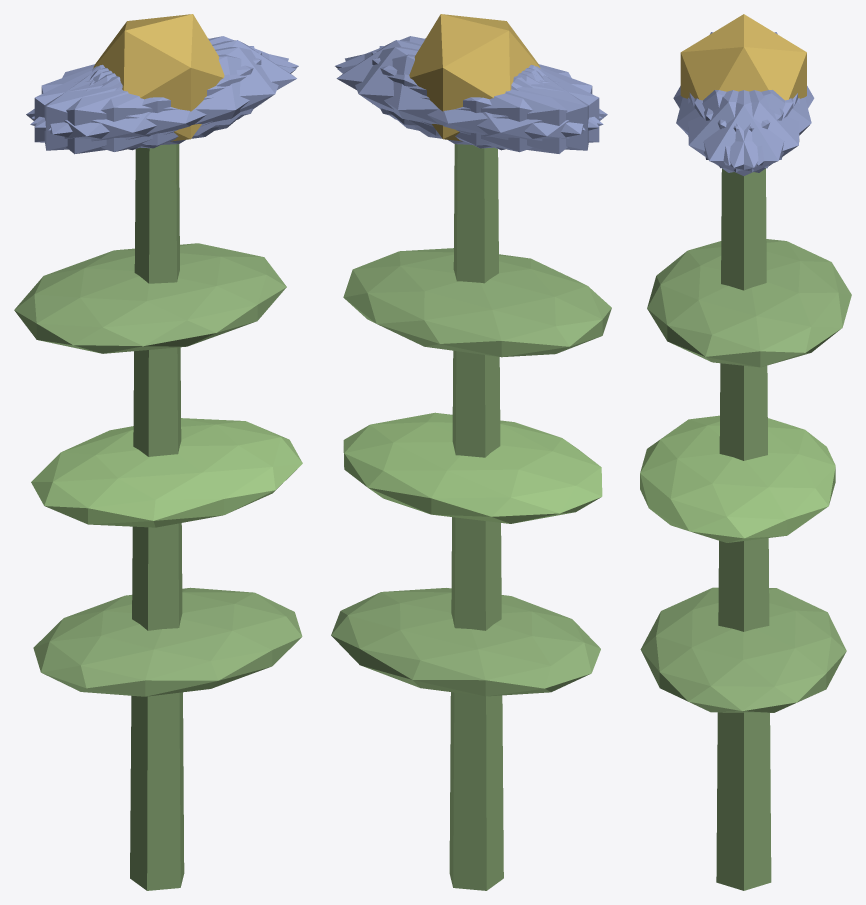
Rendered from amaranthus-blitum.glb.
3 views of the same model, side by side, from view 1: azimuth 30°, elevation 25°; view 2: azimuth 150°, elevation 25°; view 3: azimuth 270°, elevation 25° (orthographic).
Parts seen in each view (by area): view 1: stem, leaf2, leaf1, leaf0, center, petal1, petal6, petal2, petal5, petal7, petal0, petal4 (+2 smaller); view 2: stem, leaf2, leaf0, leaf1, center, petal8, petal3, petal7, petal4, petal2, petal0, petal5 (+2 smaller); view 3: stem, leaf2, leaf0, leaf1, center, petal0, petal4, petal5, petal1, petal8.
Boxes of the visible parts, left/top/right/bottom form: stem: left=130, top=144, right=184, bottom=890; leaf2: left=14, top=243, right=286, bottom=353; leaf1: left=31, top=418, right=302, bottom=527; leaf0: left=33, top=587, right=302, bottom=696; center: left=93, top=14, right=224, bottom=141; petal1: left=30, top=54, right=296, bottom=151; petal6: left=26, top=66, right=218, bottom=154; petal2: left=44, top=46, right=254, bottom=150; petal5: left=48, top=47, right=288, bottom=145; petal7: left=34, top=51, right=261, bottom=148; petal0: left=93, top=40, right=296, bottom=135; petal4: left=31, top=36, right=298, bottom=127; stem: left=449, top=144, right=503, bottom=890; leaf2: left=343, top=248, right=611, bottom=357; leaf0: left=331, top=588, right=600, bottom=696; leaf1: left=343, top=412, right=602, bottom=523; center: left=409, top=14, right=540, bottom=141; petal8: left=337, top=54, right=603, bottom=152; petal3: left=415, top=66, right=607, bottom=153; petal7: left=379, top=46, right=588, bottom=150; petal4: left=345, top=47, right=585, bottom=145; petal2: left=371, top=51, right=599, bottom=148; petal0: left=336, top=40, right=540, bottom=135; petal5: left=335, top=36, right=602, bottom=127; stem: left=716, top=168, right=771, bottom=890; leaf2: left=647, top=239, right=851, bottom=367; leaf0: left=640, top=587, right=846, bottom=712; leaf1: left=640, top=415, right=835, bottom=542; center: left=680, top=14, right=806, bottom=100; petal0: left=689, top=90, right=797, bottom=175; petal4: left=694, top=90, right=799, bottom=172; petal5: left=688, top=90, right=793, bottom=172; petal1: left=676, top=90, right=783, bottom=165; petal8: left=704, top=90, right=811, bottom=165.
Size of the model in its own units: 0.1452 by 0.454 by 0.1027.
